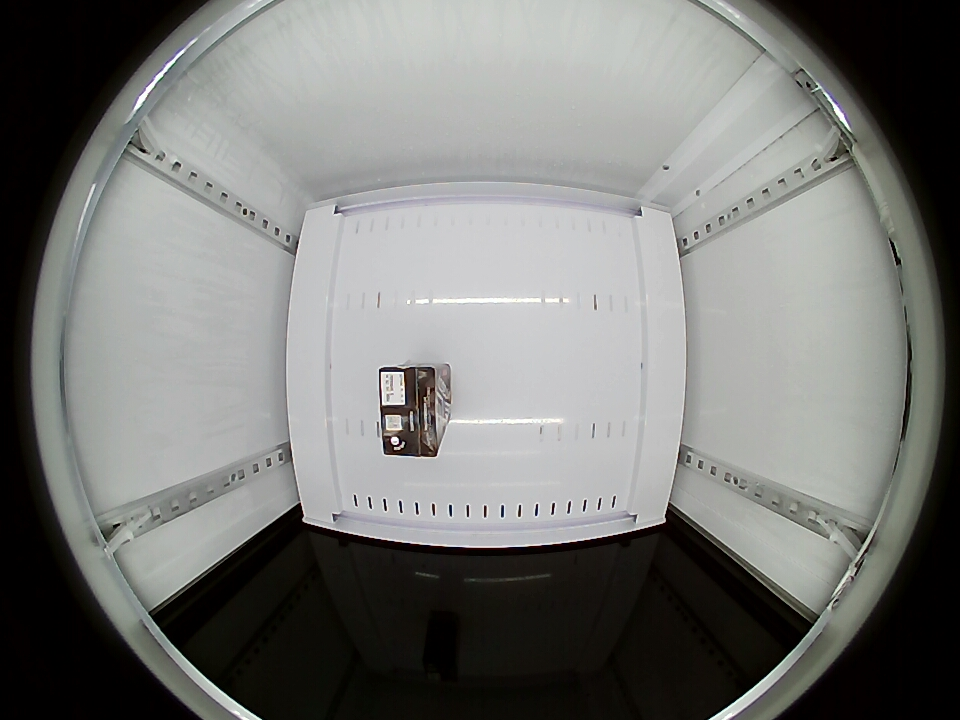weitanai2: (379, 365, 448, 457)
